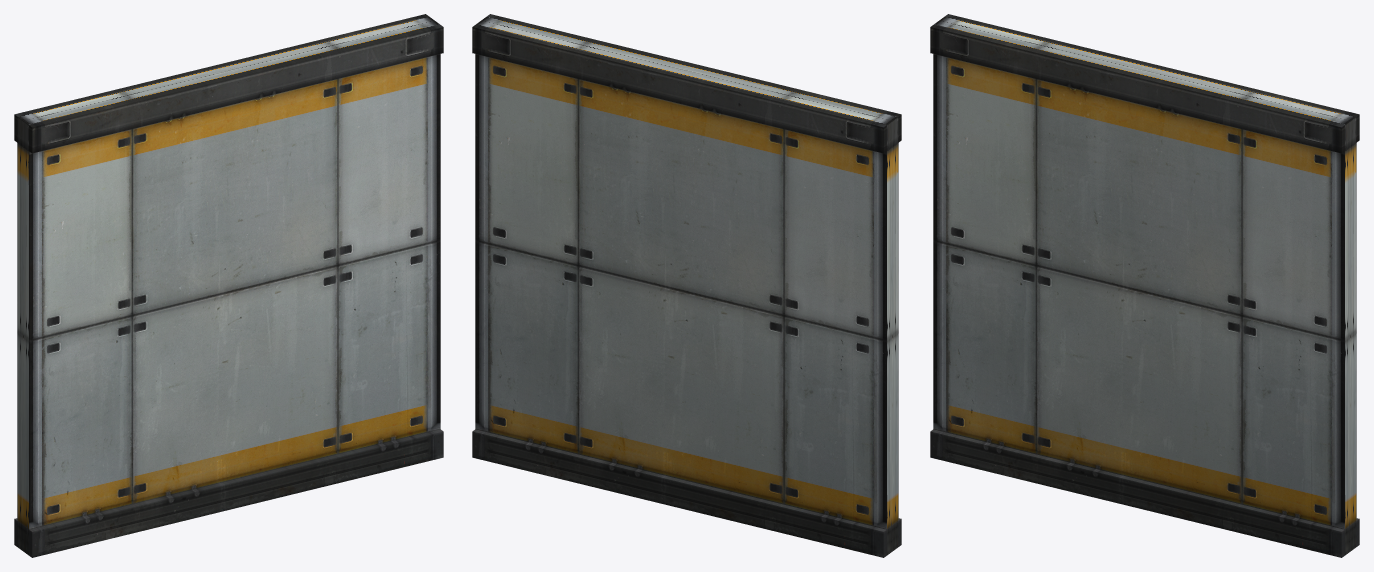
File: wall.FBX
3 views of the same model, side by side, from view 1: azimuth 30°, elevation 25°; view 2: azimuth 150°, elevation 25°; view 3: azimuth 330°, elevation 25° (orthographic).
Visible parts, largest first — view 1: Box001; view 2: Box001; view 3: Box001.
Part boxes in pixels (box(x1,y1,x2,y2)): Box001: box(14, 14, 443, 557); Box001: box(472, 14, 901, 557); Box001: box(930, 14, 1359, 557).
Bounding box in the file's own units: 400 × 400 × 30.
